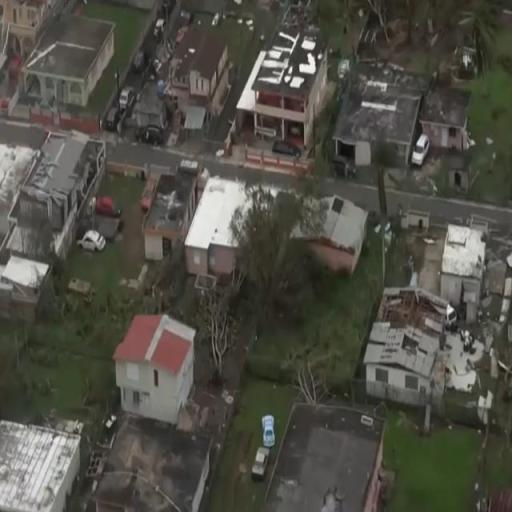house: (263, 397, 385, 512), (346, 62, 472, 166), (250, 0, 328, 153), (364, 287, 449, 413), (114, 309, 200, 431), (96, 424, 212, 512), (0, 132, 106, 226), (22, 11, 116, 110), (0, 414, 88, 510), (186, 174, 244, 284), (177, 22, 233, 116), (143, 168, 185, 261), (324, 191, 371, 273), (443, 218, 485, 308)
